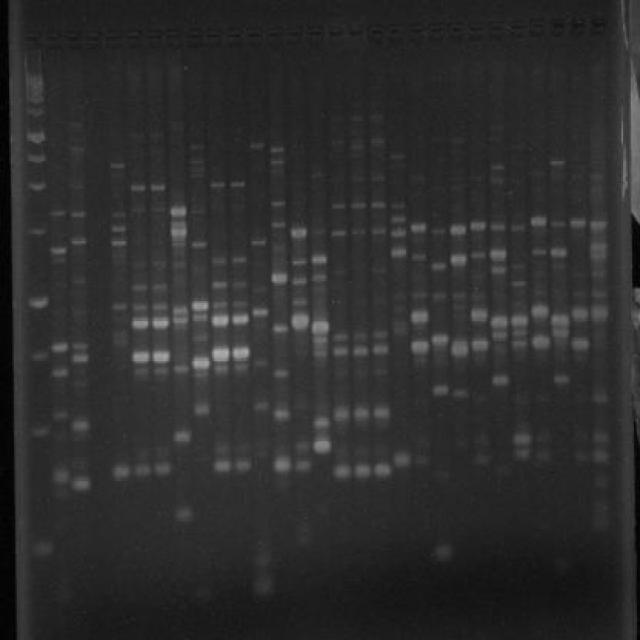B: (252, 570, 280, 598), (250, 544, 278, 570), (271, 450, 294, 476), (409, 306, 431, 328), (289, 310, 311, 332), (312, 435, 334, 457), (372, 460, 394, 482), (451, 337, 471, 360), (590, 302, 610, 324), (429, 332, 451, 352), (470, 333, 490, 355), (408, 337, 430, 357), (332, 402, 352, 424), (392, 451, 414, 471), (212, 456, 234, 476), (72, 472, 92, 494), (390, 316, 410, 338), (472, 428, 492, 450), (110, 328, 130, 350), (232, 433, 252, 455), (529, 282, 551, 301), (590, 473, 612, 492), (530, 302, 550, 322), (570, 304, 590, 324), (352, 402, 372, 422), (372, 403, 392, 423), (234, 456, 254, 476), (534, 428, 554, 448), (470, 304, 488, 326), (530, 334, 552, 352), (190, 354, 212, 372), (69, 416, 91, 434), (109, 462, 131, 480), (49, 466, 71, 484), (413, 450, 432, 470), (175, 504, 194, 524), (450, 249, 468, 269), (310, 318, 330, 336), (571, 336, 591, 354), (192, 400, 212, 418), (513, 430, 533, 448), (132, 460, 152, 478), (353, 462, 373, 480), (332, 462, 352, 480), (436, 544, 456, 562), (534, 448, 554, 466), (212, 438, 232, 456), (549, 312, 571, 328), (490, 372, 512, 388), (293, 438, 312, 456), (473, 450, 492, 468), (570, 286, 590, 303), (452, 384, 470, 402), (592, 447, 611, 464), (171, 430, 194, 444), (510, 313, 530, 329), (210, 313, 230, 329), (130, 316, 150, 332), (370, 342, 390, 358), (350, 343, 370, 359), (231, 346, 251, 362), (151, 348, 171, 364), (131, 350, 151, 366), (430, 382, 450, 398), (252, 398, 272, 414), (296, 456, 312, 476), (370, 261, 390, 277), (365, 110, 387, 124), (390, 244, 408, 261), (490, 314, 508, 331), (212, 346, 230, 363), (552, 372, 571, 388), (592, 430, 611, 446), (588, 218, 608, 233), (309, 224, 329, 239), (410, 220, 428, 236), (290, 224, 308, 240), (430, 258, 448, 274), (270, 271, 288, 287), (332, 343, 350, 359), (549, 328, 571, 341), (69, 352, 91, 365), (153, 461, 172, 476), (448, 222, 468, 236), (589, 240, 609, 254), (488, 248, 508, 262), (310, 270, 330, 284), (290, 294, 310, 308), (210, 297, 230, 311), (230, 314, 250, 328), (130, 366, 150, 380), (272, 408, 292, 422), (312, 416, 332, 430), (371, 363, 391, 377), (529, 214, 548, 228), (569, 217, 588, 231), (572, 452, 591, 466), (48, 245, 68, 258), (210, 278, 230, 291), (130, 282, 150, 295), (590, 288, 610, 301), (130, 302, 150, 315), (270, 322, 290, 335), (370, 329, 390, 342), (350, 331, 370, 344), (510, 338, 530, 351), (49, 341, 69, 354), (230, 362, 250, 375), (49, 365, 69, 378), (170, 204, 187, 219), (470, 218, 488, 232), (550, 246, 568, 260), (310, 252, 328, 266), (230, 297, 248, 311), (192, 298, 210, 312), (252, 304, 270, 318), (152, 316, 170, 330), (212, 362, 230, 376), (152, 364, 170, 378), (368, 134, 386, 148), (350, 170, 368, 184), (148, 202, 166, 216), (272, 366, 291, 379), (51, 409, 70, 422), (169, 238, 188, 251), (368, 170, 387, 183), (430, 290, 450, 302), (470, 290, 490, 302), (447, 134, 467, 146), (170, 257, 187, 271), (230, 255, 248, 268), (210, 256, 228, 269), (290, 275, 308, 288), (252, 356, 270, 369), (592, 391, 610, 404), (348, 112, 366, 125), (509, 260, 528, 272), (509, 278, 528, 290), (490, 173, 506, 187), (130, 200, 146, 214), (390, 227, 407, 240), (311, 336, 331, 347), (513, 448, 533, 459), (190, 238, 208, 250), (590, 268, 608, 280), (172, 304, 190, 316), (550, 260, 568, 272), (312, 349, 331, 360), (412, 288, 428, 301), (390, 214, 407, 226), (550, 218, 567, 230), (170, 228, 187, 240), (490, 264, 507, 276), (450, 302, 470, 312), (150, 302, 170, 312), (70, 342, 90, 352), (548, 157, 566, 168), (330, 227, 348, 238), (530, 247, 548, 258), (470, 249, 488, 260), (290, 256, 308, 267), (172, 364, 188, 376), (187, 142, 206, 152), (148, 182, 167, 192), (69, 276, 88, 286), (229, 179, 246, 190), (209, 179, 226, 190), (509, 222, 526, 233), (350, 227, 367, 238), (268, 144, 286, 154), (68, 208, 86, 218), (410, 252, 428, 262), (510, 329, 530, 338), (332, 332, 350, 342), (390, 199, 406, 210), (232, 279, 248, 290), (187, 157, 206, 166), (109, 211, 128, 220), (130, 182, 147, 192), (490, 222, 507, 232), (250, 238, 267, 248), (268, 157, 286, 166), (370, 200, 388, 209), (110, 224, 128, 233), (430, 227, 448, 236), (110, 238, 128, 247), (70, 238, 88, 247), (590, 254, 608, 263), (490, 332, 508, 341), (50, 208, 66, 218), (152, 282, 168, 292), (112, 302, 128, 312), (190, 334, 210, 342), (350, 201, 367, 210), (330, 201, 347, 210), (189, 207, 206, 216), (270, 220, 287, 229), (370, 227, 387, 236), (169, 220, 188, 228), (270, 200, 288, 208), (172, 317, 190, 325), (249, 142, 266, 150), (69, 145, 86, 153), (389, 153, 406, 161), (110, 162, 126, 170), (452, 292, 468, 300), (192, 313, 208, 321), (490, 163, 504, 171)
L: (20, 10, 611, 48)
M: (19, 48, 59, 568)
P: (30, 538, 56, 562), (24, 290, 52, 312), (22, 70, 48, 90), (23, 148, 49, 166), (24, 223, 50, 240), (26, 424, 52, 441), (24, 126, 47, 145), (23, 104, 48, 121), (23, 178, 48, 194), (26, 348, 51, 364), (22, 92, 48, 105)
Pc: (588, 15, 610, 40), (486, 16, 508, 38), (568, 14, 588, 38), (508, 16, 528, 39), (548, 16, 568, 38), (467, 18, 487, 40), (426, 20, 446, 42), (326, 22, 344, 46), (246, 24, 265, 46), (266, 24, 285, 46), (306, 22, 325, 44), (529, 14, 548, 36), (447, 20, 467, 40), (346, 22, 364, 44), (408, 20, 426, 42), (185, 27, 204, 47), (224, 26, 243, 46), (285, 23, 304, 43), (63, 28, 82, 47), (386, 22, 404, 42), (367, 22, 385, 42), (23, 28, 42, 46), (125, 28, 144, 46), (206, 26, 223, 46), (144, 28, 162, 46), (164, 28, 182, 46), (104, 29, 122, 46), (44, 29, 61, 46), (86, 29, 102, 46)
